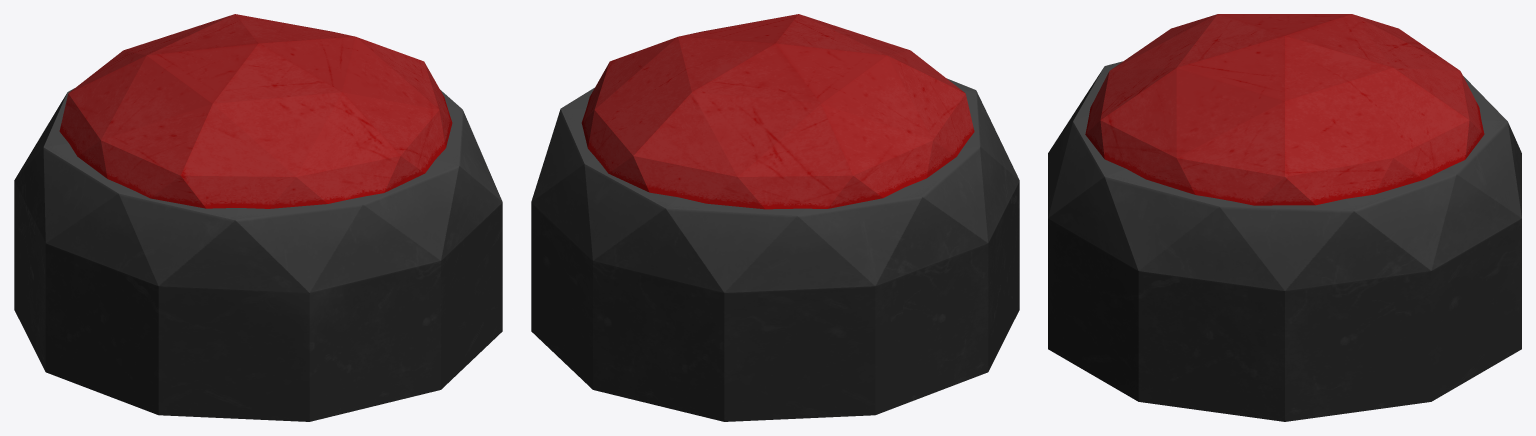
The model's file is Button.fbx.
3 renders of one model, left to right at view 1: azimuth 30°, elevation 25°; view 2: azimuth 150°, elevation 25°; view 3: azimuth 270°, elevation 25°, orthographic.
Visible parts, largest first — view 1: Button_Base, Button_Top; view 2: Button_Base, Button_Top; view 3: Button_Base, Button_Top.
Boxes of the visible parts, x1,y1,x2,y2 form: Button_Base: (14, 88, 502, 421); Button_Top: (59, 14, 452, 208); Button_Base: (531, 78, 1019, 421); Button_Top: (581, 14, 974, 209); Button_Base: (1048, 61, 1521, 421); Button_Top: (1085, 14, 1484, 205).
Size of the model in its own units: 84.56 by 52.59 by 80.42.
